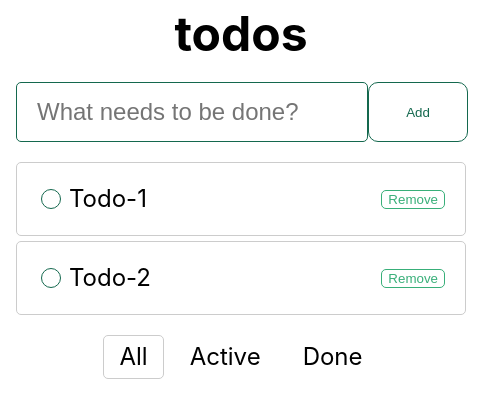
Test: Todo list › All current todos should be in active list, not in done list
The width and height of the screenshot is (485, 396).
Click the radio button labelled "Active". click: (225, 357)
box: [190, 342, 261, 371]
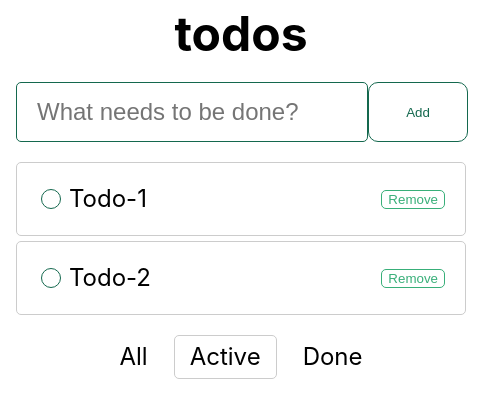
Expected: the number of checkboxes is 2, [41, 189, 61, 209]; [41, 268, 61, 288]
Click the radio button labelled "Done". click: (333, 357)
box: [303, 342, 362, 371]
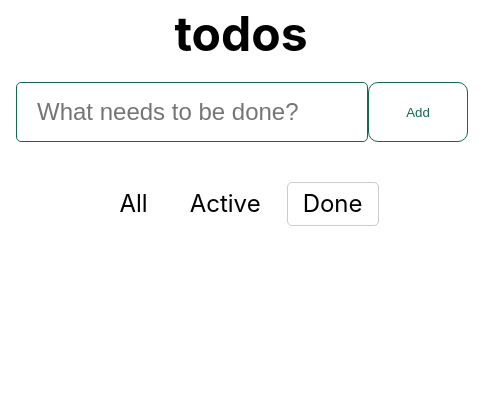
Result: no checkboxes are shown
